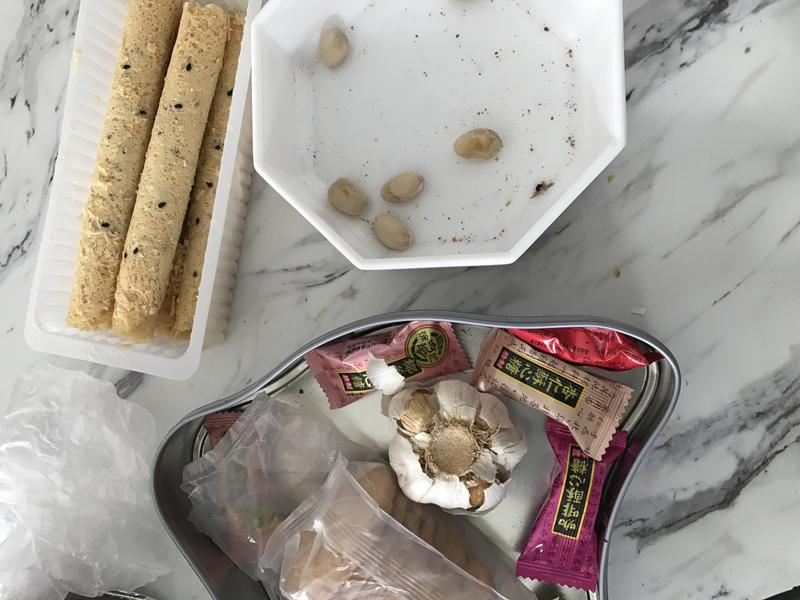garlic: (378, 371, 534, 527)
